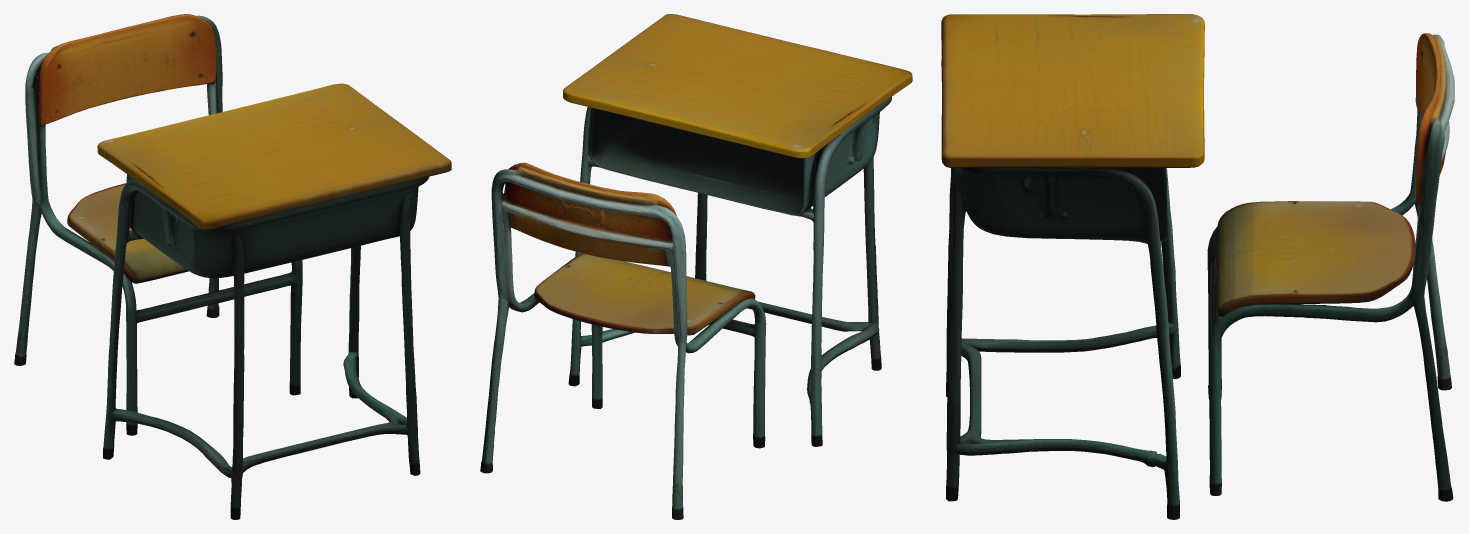
Rendered from table6.glb.
The picture shows the model from 3 angles, left to right: view 1: azimuth 30°, elevation 25°; view 2: azimuth 150°, elevation 25°; view 3: azimuth 270°, elevation 25°; orthographic projection. The views are drawn at different scales.
Visible parts, largest first — view 1: world; view 2: world; view 3: world.
Boxes of the visible parts, box(x1,y1,x2,y2) form: world: box(14, 14, 451, 519); world: box(480, 14, 912, 519); world: box(941, 14, 1454, 519).
Bounding box in the file's own units: 0.6787 × 0.8063 × 0.9955.
1 material, 1 textured.
